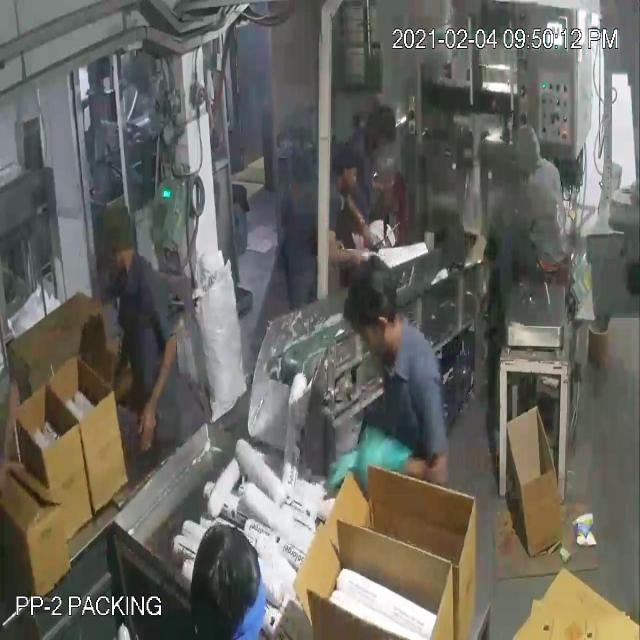gloves: (350, 407, 410, 509)
no-gloves: (126, 311, 186, 469), (322, 223, 370, 277)
